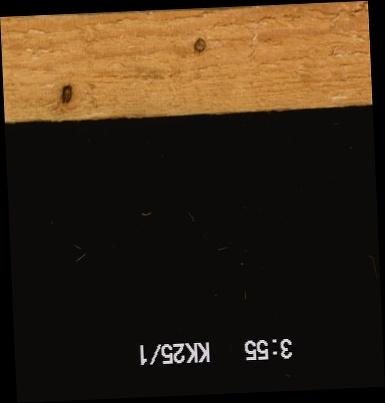dry_knot: (59, 83, 74, 106), (192, 36, 206, 55)
